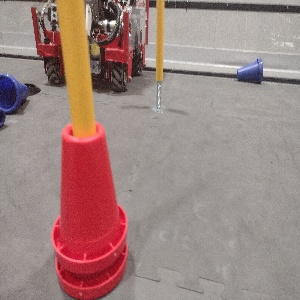Blue_1: (0, 73, 29, 111), (235, 53, 265, 86)
Red_2: (50, 120, 127, 299)
